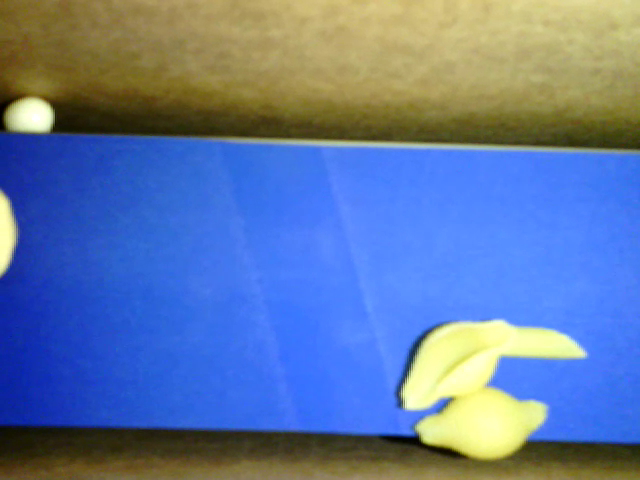penne: (497, 325, 588, 358)
shell: (397, 318, 511, 413), (414, 388, 550, 461)
